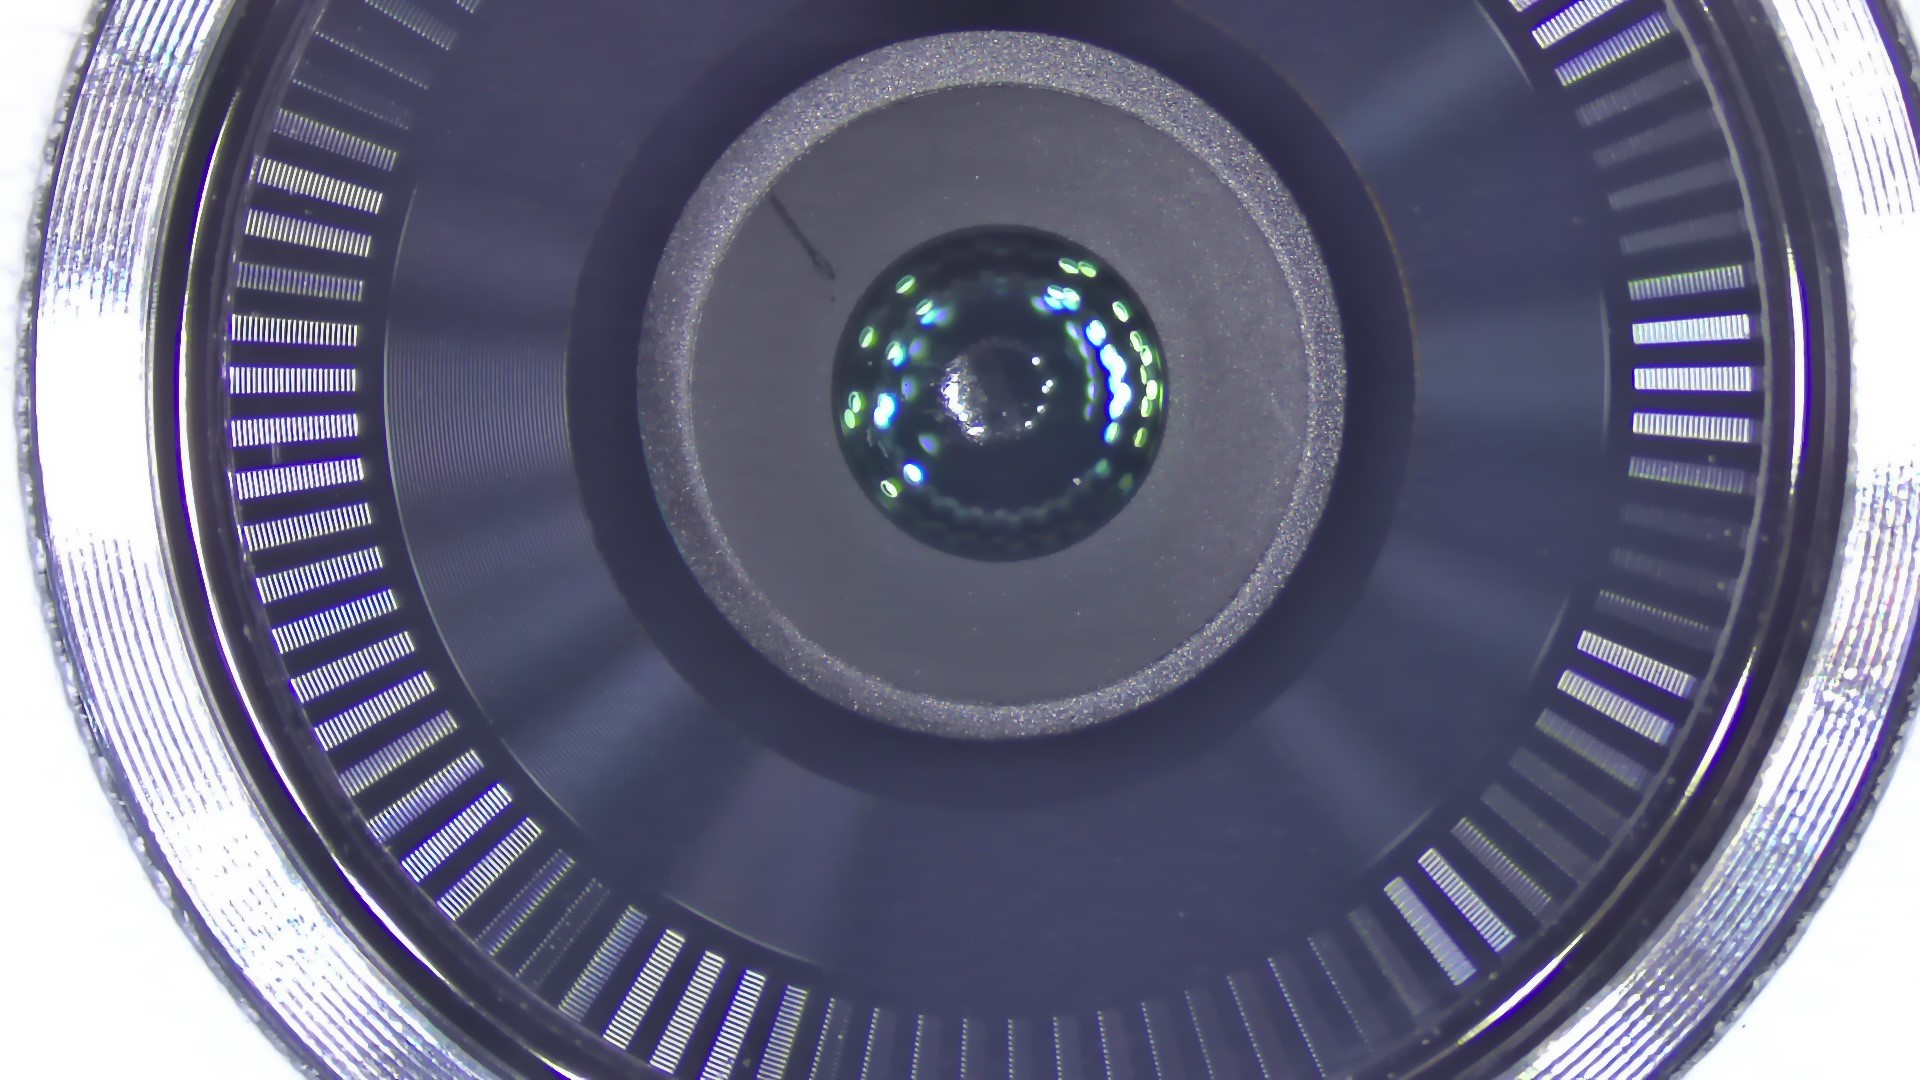crack: (756, 175, 843, 312)
